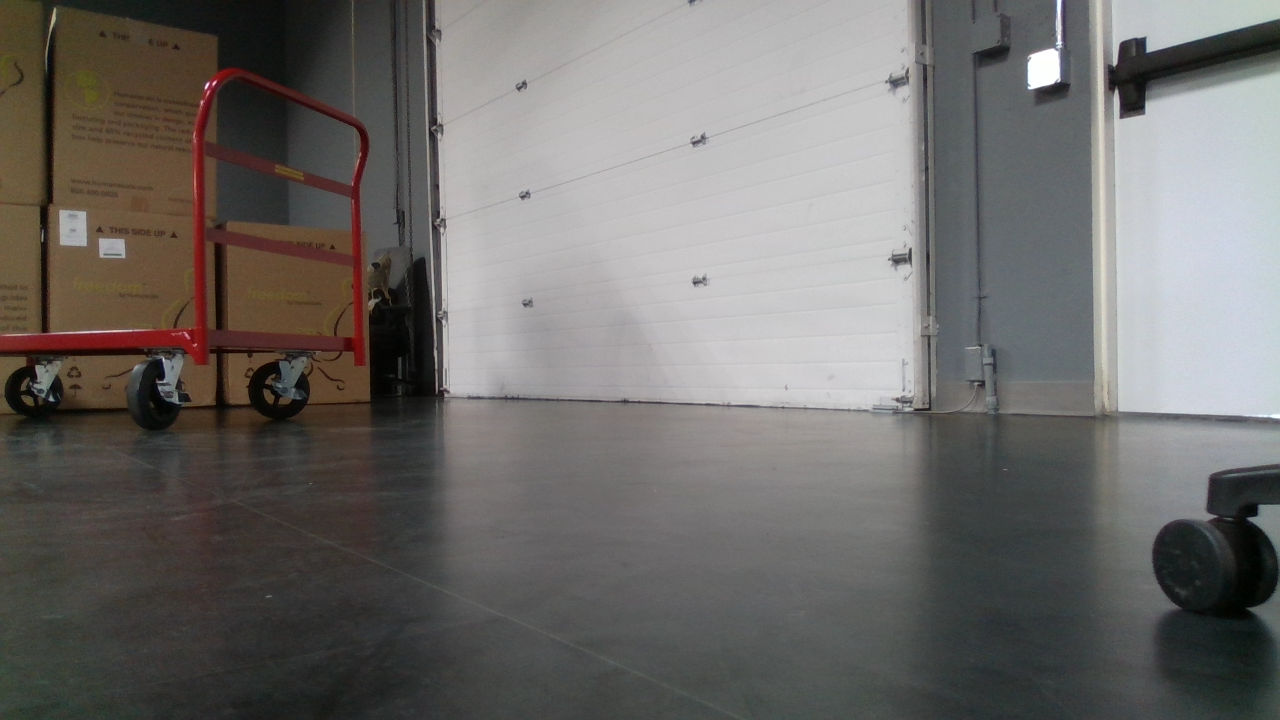Dolly: (0, 64, 369, 434)
Wheel: (128, 357, 181, 431), (248, 363, 310, 420), (5, 365, 64, 417)
